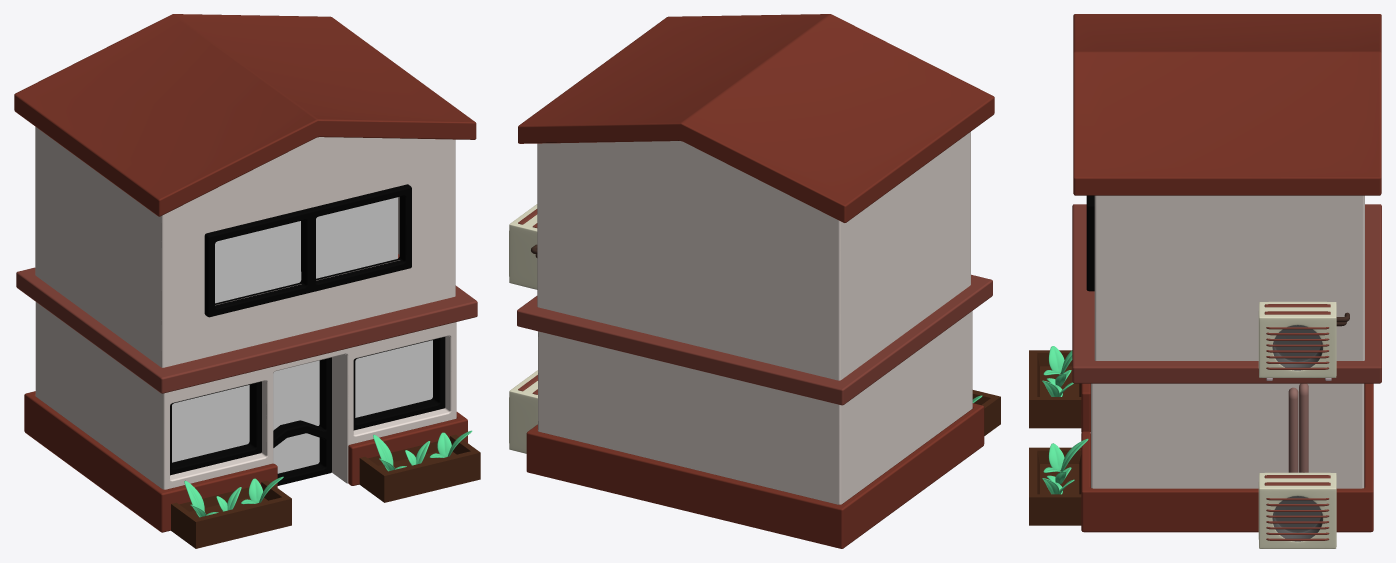
The model's file is Home3.fbx.
3 renders of one model, left to right at view 1: azimuth 30°, elevation 25°; view 2: azimuth 150°, elevation 25°; view 3: azimuth 270°, elevation 25°, orthographic. The views are drawn at different scales.
Visible parts, largest first — view 1: ชั้น1, Roof2, Roof1, Roof0, Pot, Window1, Door1, Grass; view 2: ชั้น1, Roof2, Roof0, Roof1, ComAir2, ComAir1, Pot; view 3: ชั้น1, Roof2, Roof0, Roof1, Pot, ComAir2, ComAir1, Grass, Pipe1, Pipe2, Pipe2.001.
Part boxes in pixels (box(x1,y1,x2,y2)): ชั้น1: box(35, 127, 456, 489); Roof2: box(14, 14, 476, 216); Roof1: box(16, 254, 477, 393); Roof0: box(24, 391, 467, 532); Pot: box(171, 434, 480, 548); Window1: box(170, 337, 445, 475); Door1: box(273, 357, 331, 485); Grass: box(184, 430, 472, 517); ชั้น1: box(537, 132, 972, 504); Roof2: box(518, 14, 994, 222); Roof0: box(526, 403, 984, 548); Roof1: box(517, 274, 992, 405); ComAir2: box(509, 204, 537, 289); ComAir1: box(509, 370, 537, 453); Pot: box(972, 390, 1000, 435); ชั้น1: box(1086, 195, 1364, 488); Roof2: box(1073, 14, 1381, 195); Roof0: box(1081, 383, 1373, 532); Roof1: box(1072, 204, 1381, 383); Pot: box(1029, 350, 1081, 525); ComAir2: box(1258, 301, 1336, 380); ComAir1: box(1258, 472, 1336, 548); Grass: box(1042, 346, 1088, 494); Pipe1: box(1288, 383, 1308, 472); Pipe2: box(1266, 498, 1329, 540); Pipe2.001: box(1266, 327, 1329, 369).
Bounding box in the file's own units: 723 × 750 × 598.
